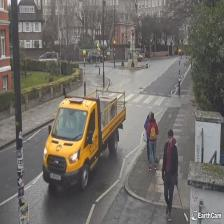person: (161, 130, 178, 220), (144, 111, 158, 163), (148, 112, 158, 170)
